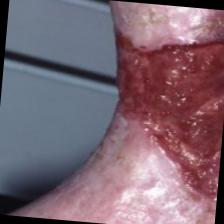wound-ulser: (91, 6, 224, 206)
